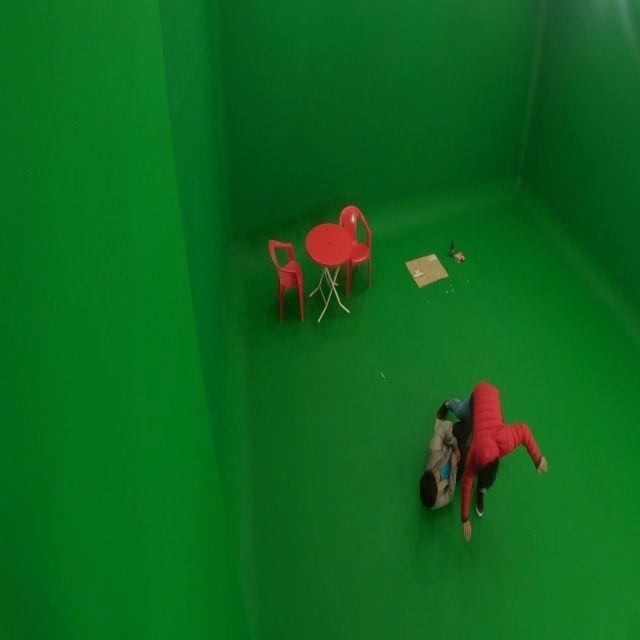fight: (419, 377, 548, 542)
